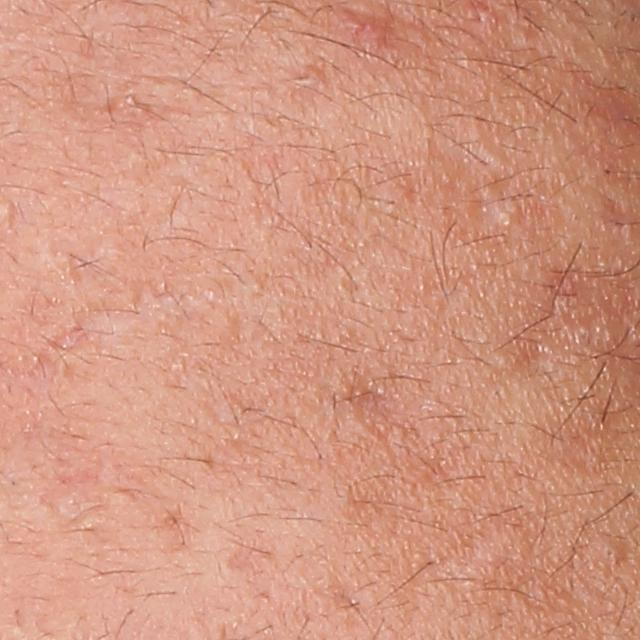comedo: (600, 540, 623, 565)
papule: (340, 4, 395, 47)
